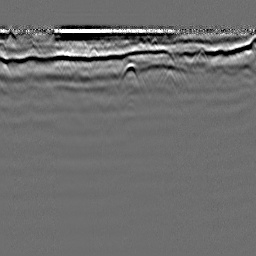cavity: (117, 62, 142, 89)
